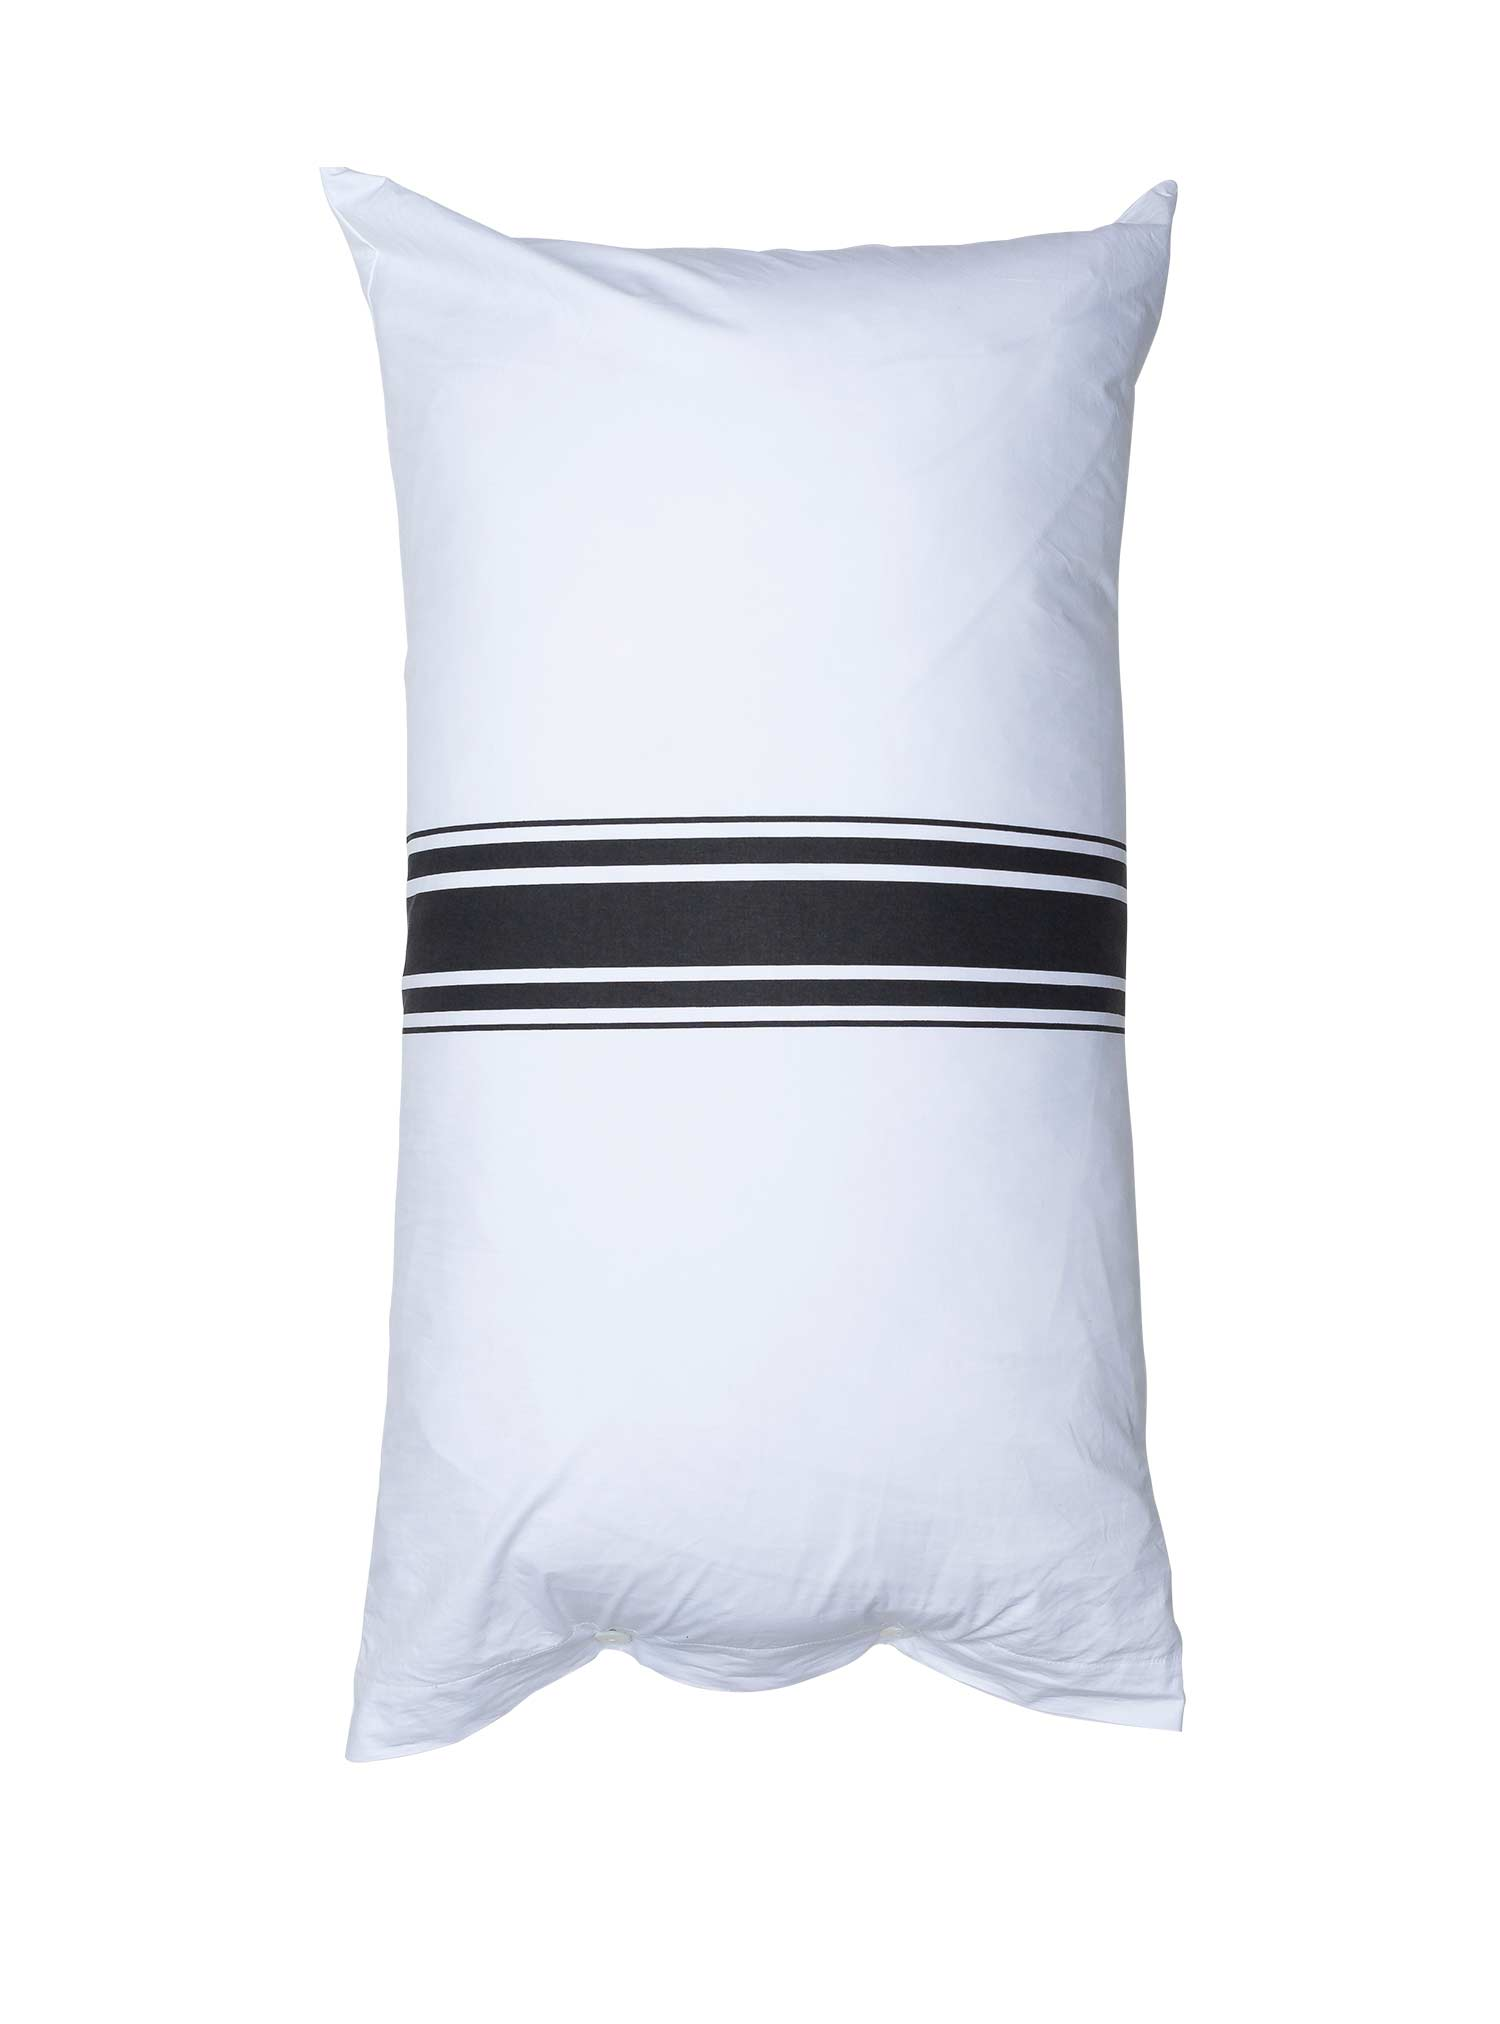bantal: (2, 112, 1487, 1737)
